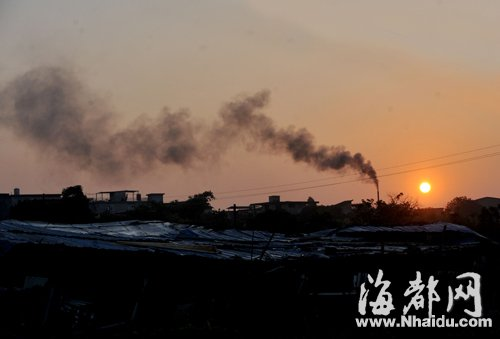dust: (301, 140, 399, 197)
